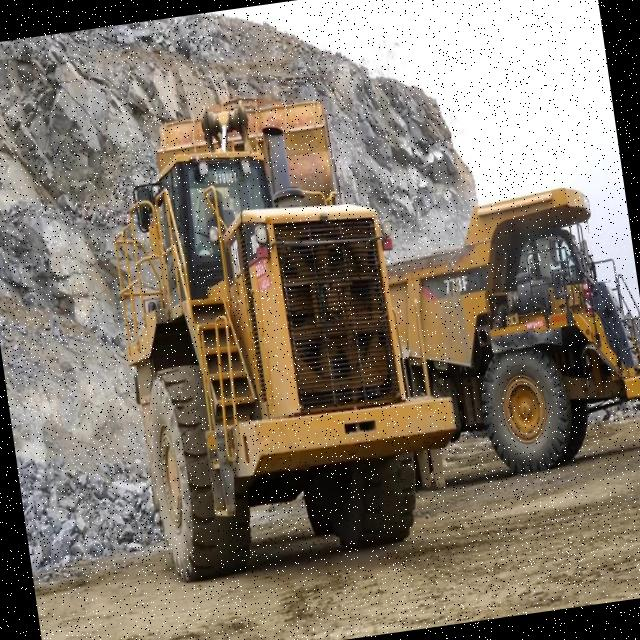Dump Truck: (378, 177, 640, 490)
Loader: (94, 78, 474, 590)
